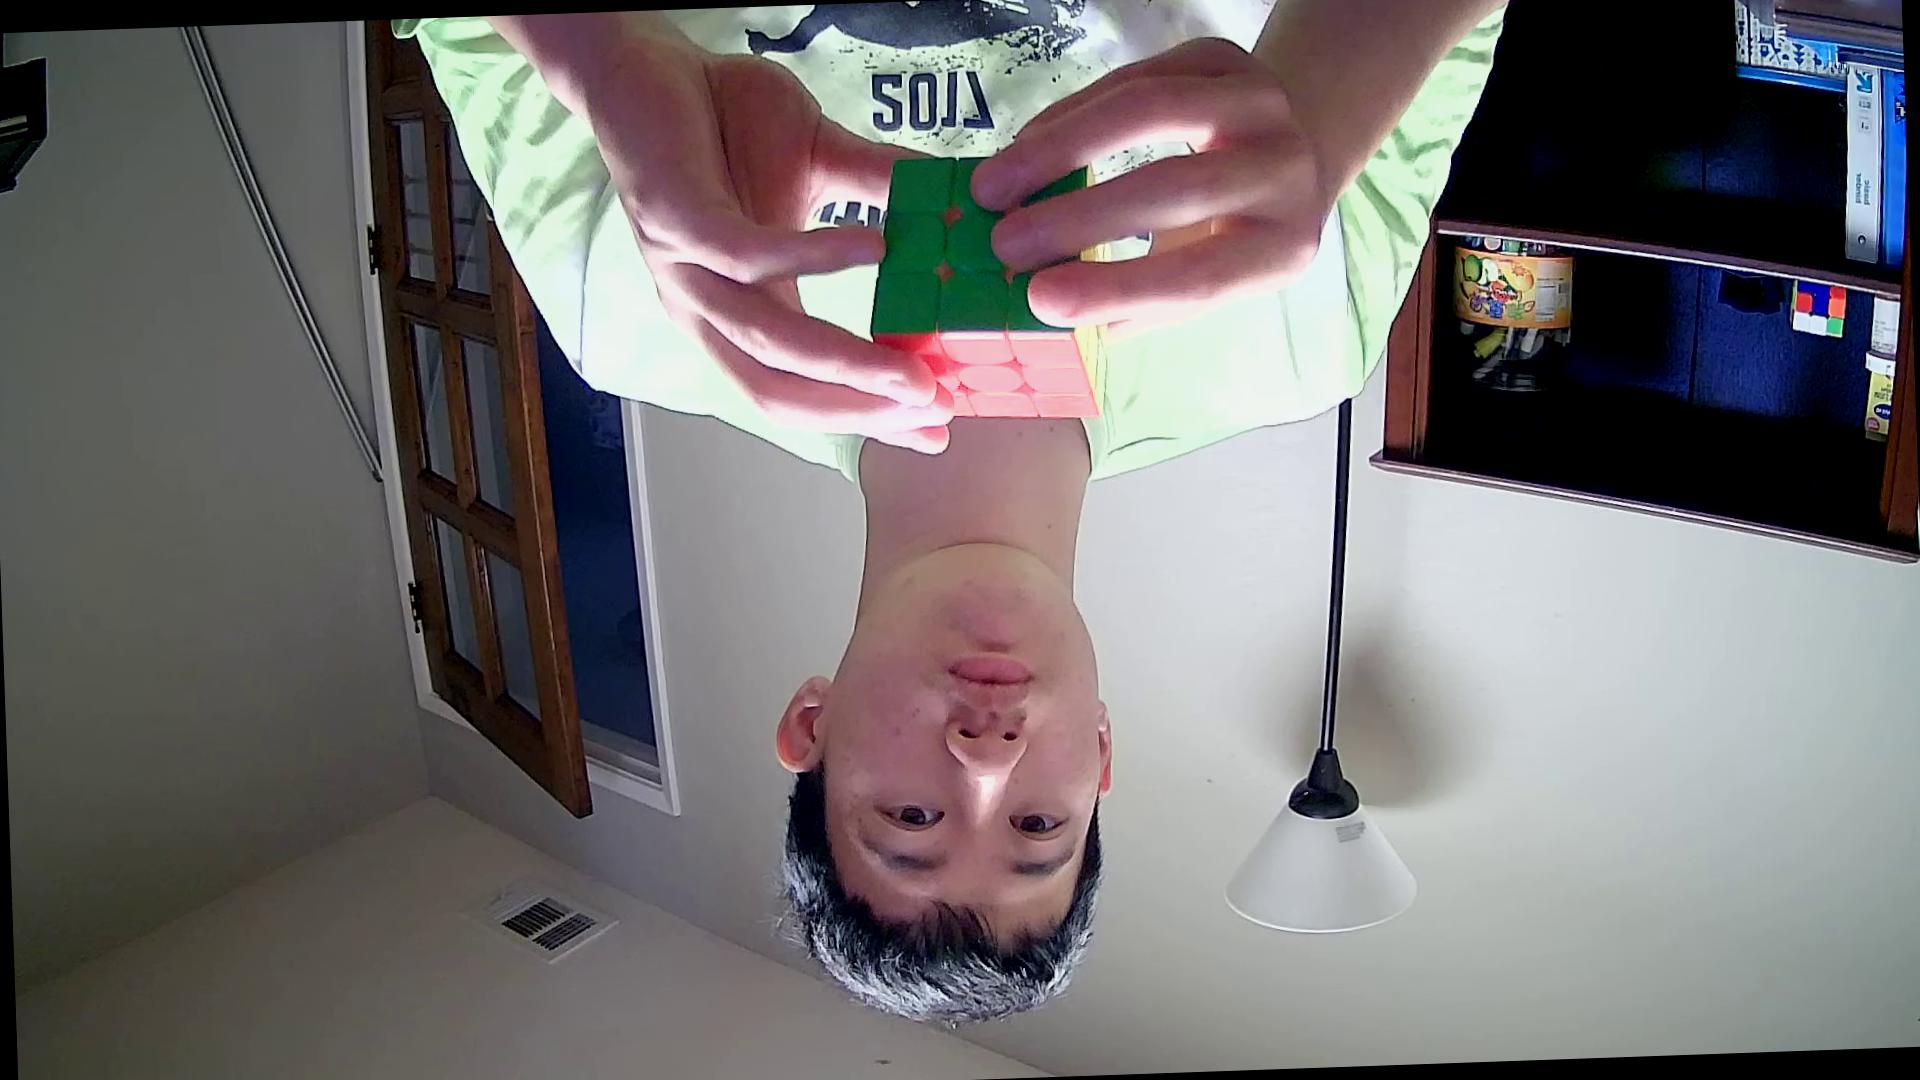Rubiks-Cube: (861, 145, 1125, 433)
